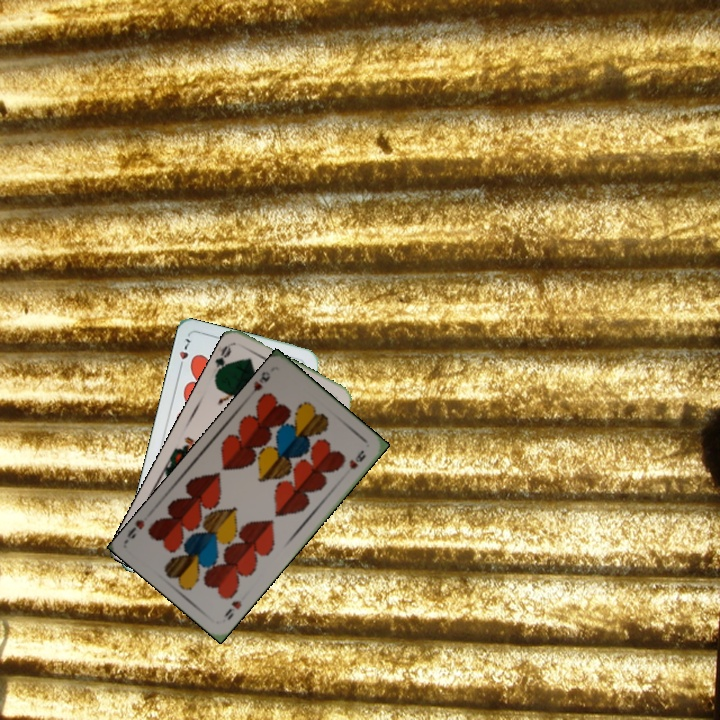GO: (210, 341, 234, 380)
H7: (175, 334, 193, 373)
H9: (246, 369, 273, 399), (219, 596, 244, 623)
